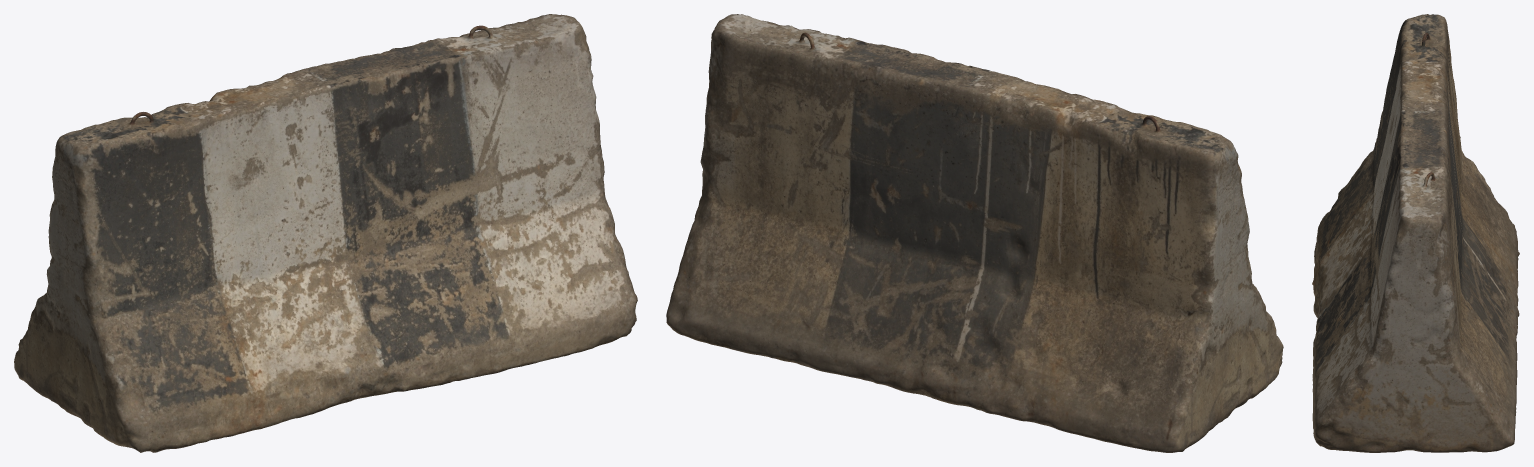
File: concrete_road_barrier.glb
The picture shows the model from 3 angles, left to right: view 1: azimuth 30°, elevation 25°; view 2: azimuth 150°, elevation 25°; view 3: azimuth 270°, elevation 25°; orthographic projection. The views are drawn at different scales.
Visible parts, largest first — view 1: concrete_road_barrier; view 2: concrete_road_barrier; view 3: concrete_road_barrier.
Part boxes in pixels (x1,y1,x2,y2): concrete_road_barrier: (14, 14, 637, 452); concrete_road_barrier: (666, 14, 1283, 452); concrete_road_barrier: (1312, 14, 1519, 452).
Bounding box in the file's own units: 1.55 × 0.831 × 0.6387.
Materials: 1 (1 with a texture image).
